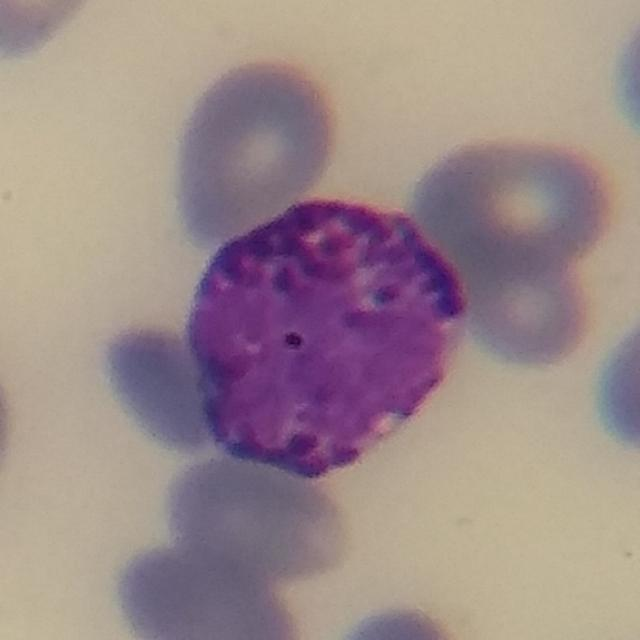baso: (179, 187, 483, 486)
